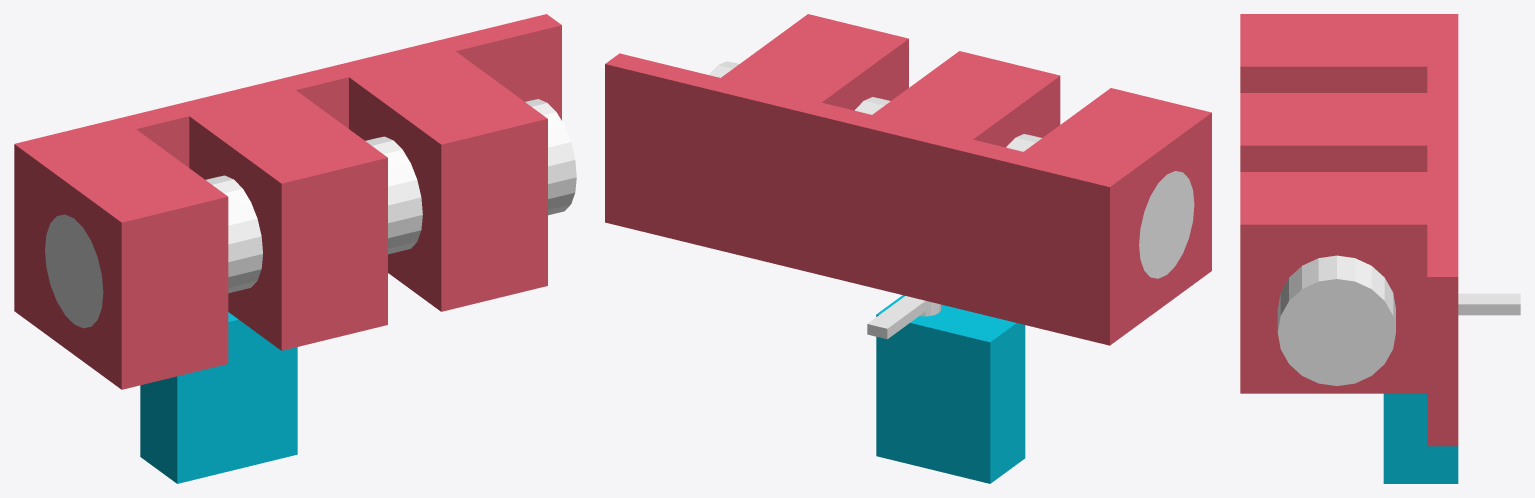
File: tinker5.gltf
3 views of the same model, side by side, from view 1: azimuth 30°, elevation 25°; view 2: azimuth 150°, elevation 25°; view 3: azimuth 270°, elevation 25° (orthographic). The views are drawn at different scales.
Parts seen in each view (by area): view 1: group_0_15277357, group_0_40919, group_0_16448250; view 2: group_0_15277357, group_0_40919, group_0_16448250; view 3: group_0_15277357, group_0_16448250, group_0_40919.
Boxes of the visible parts, x1=… form: group_0_15277357: x1=14, y1=14, x2=561, y2=389; group_0_40919: x1=140, y1=312, x2=297, y2=483; group_0_16448250: x1=45, y1=99, x2=576, y2=328; group_0_15277357: x1=605, y1=14, x2=1211, y2=345; group_0_40919: x1=876, y1=295, x2=1025, y2=483; group_0_16448250: x1=709, y1=61, x2=1194, y2=339; group_0_15277357: x1=1240, y1=14, x2=1458, y2=446; group_0_16448250: x1=1277, y1=255, x2=1520, y2=385; group_0_40919: x1=1383, y1=393, x2=1458, y2=483.
Size of the model in its own units: 100 by 61.7 by 45.
